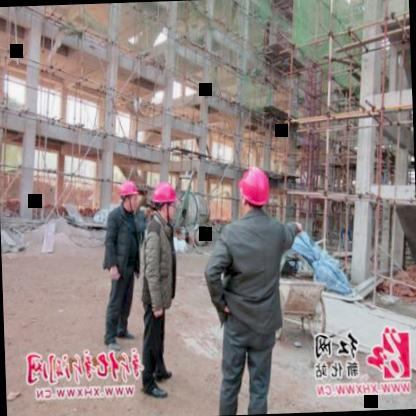helmet: (235, 166, 273, 221), (151, 181, 182, 227), (118, 180, 144, 210)
